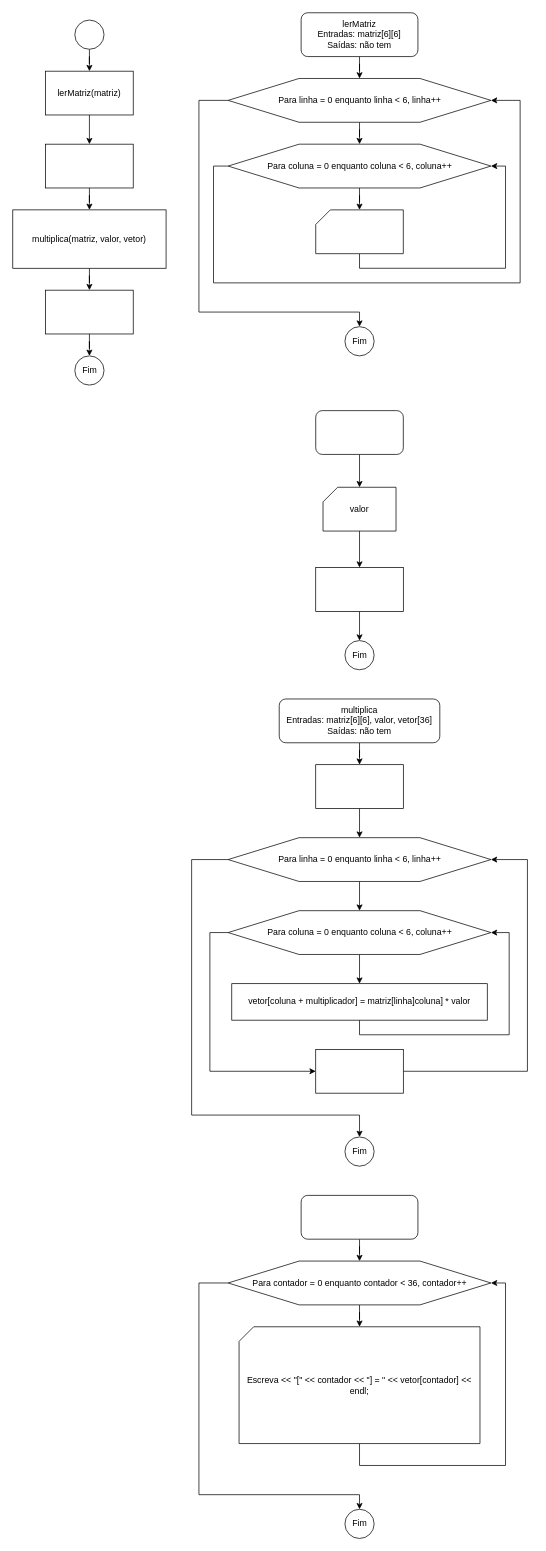
This 546x1551 diagram has some shape labels left out. Here are the shapes that lost their labels. From the top down, the box of each, then its label:
(74, 19, 104, 49): Início
(45, 143, 133, 188): valor = lerValor(valor)
(315, 209, 403, 254): matriz[linha][coluna]
(45, 289, 133, 334): imprimeVetor(vetor)
(315, 410, 403, 454): lerValor Entradas: valor Saídas: valor
(315, 567, 403, 611): Retorna valor
(315, 764, 403, 808): multiplicador = 0
(315, 1049, 403, 1093): multiplicador += 6
(300, 1195, 418, 1239): imprimeVetor Entradas: vetor[36] Saídas: não tem
